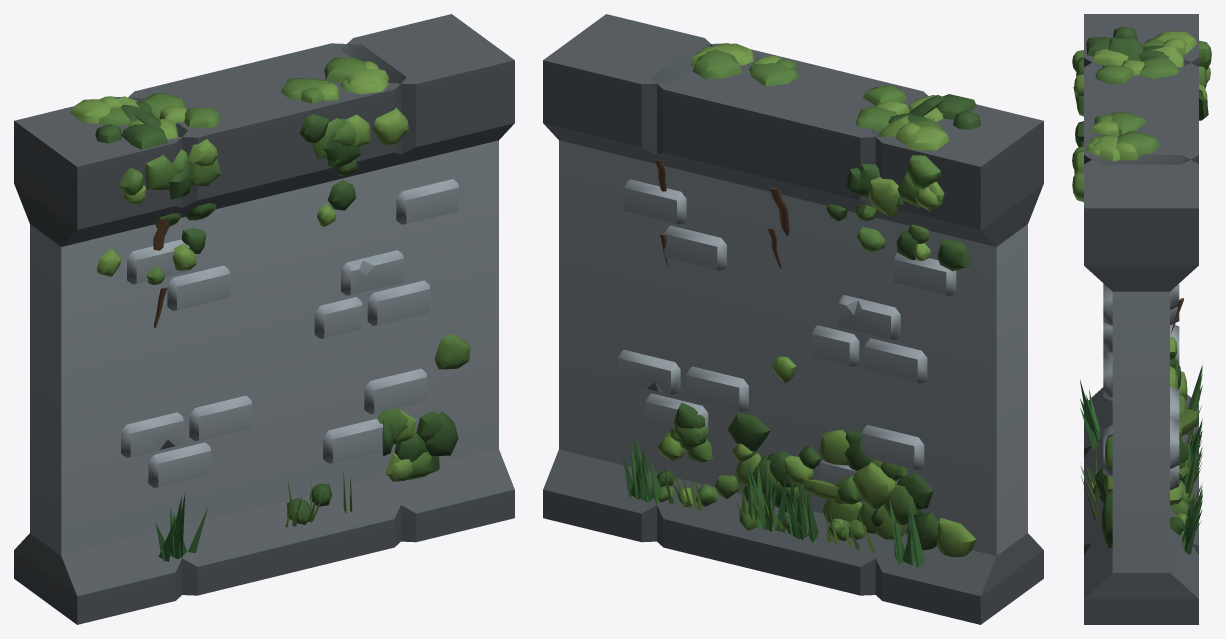
The model's file is wall_mossy_C.glb.
3 renders of one model, left to right at view 1: azimuth 30°, elevation 25°; view 2: azimuth 150°, elevation 25°; view 3: azimuth 270°, elevation 25°, orthographic. The views are drawn at different scales.
Visible parts, largest first — view 1: Item; view 2: Item; view 3: Item.
Boxes of the visible parts, box(x1,y1,x2,y2) form: Item: box(14, 14, 514, 624); Item: box(543, 14, 1043, 624); Item: box(1072, 14, 1211, 624).
Size of the model in its own units: 4 by 4.15 by 1.22.
3 materials, 3 textured.
